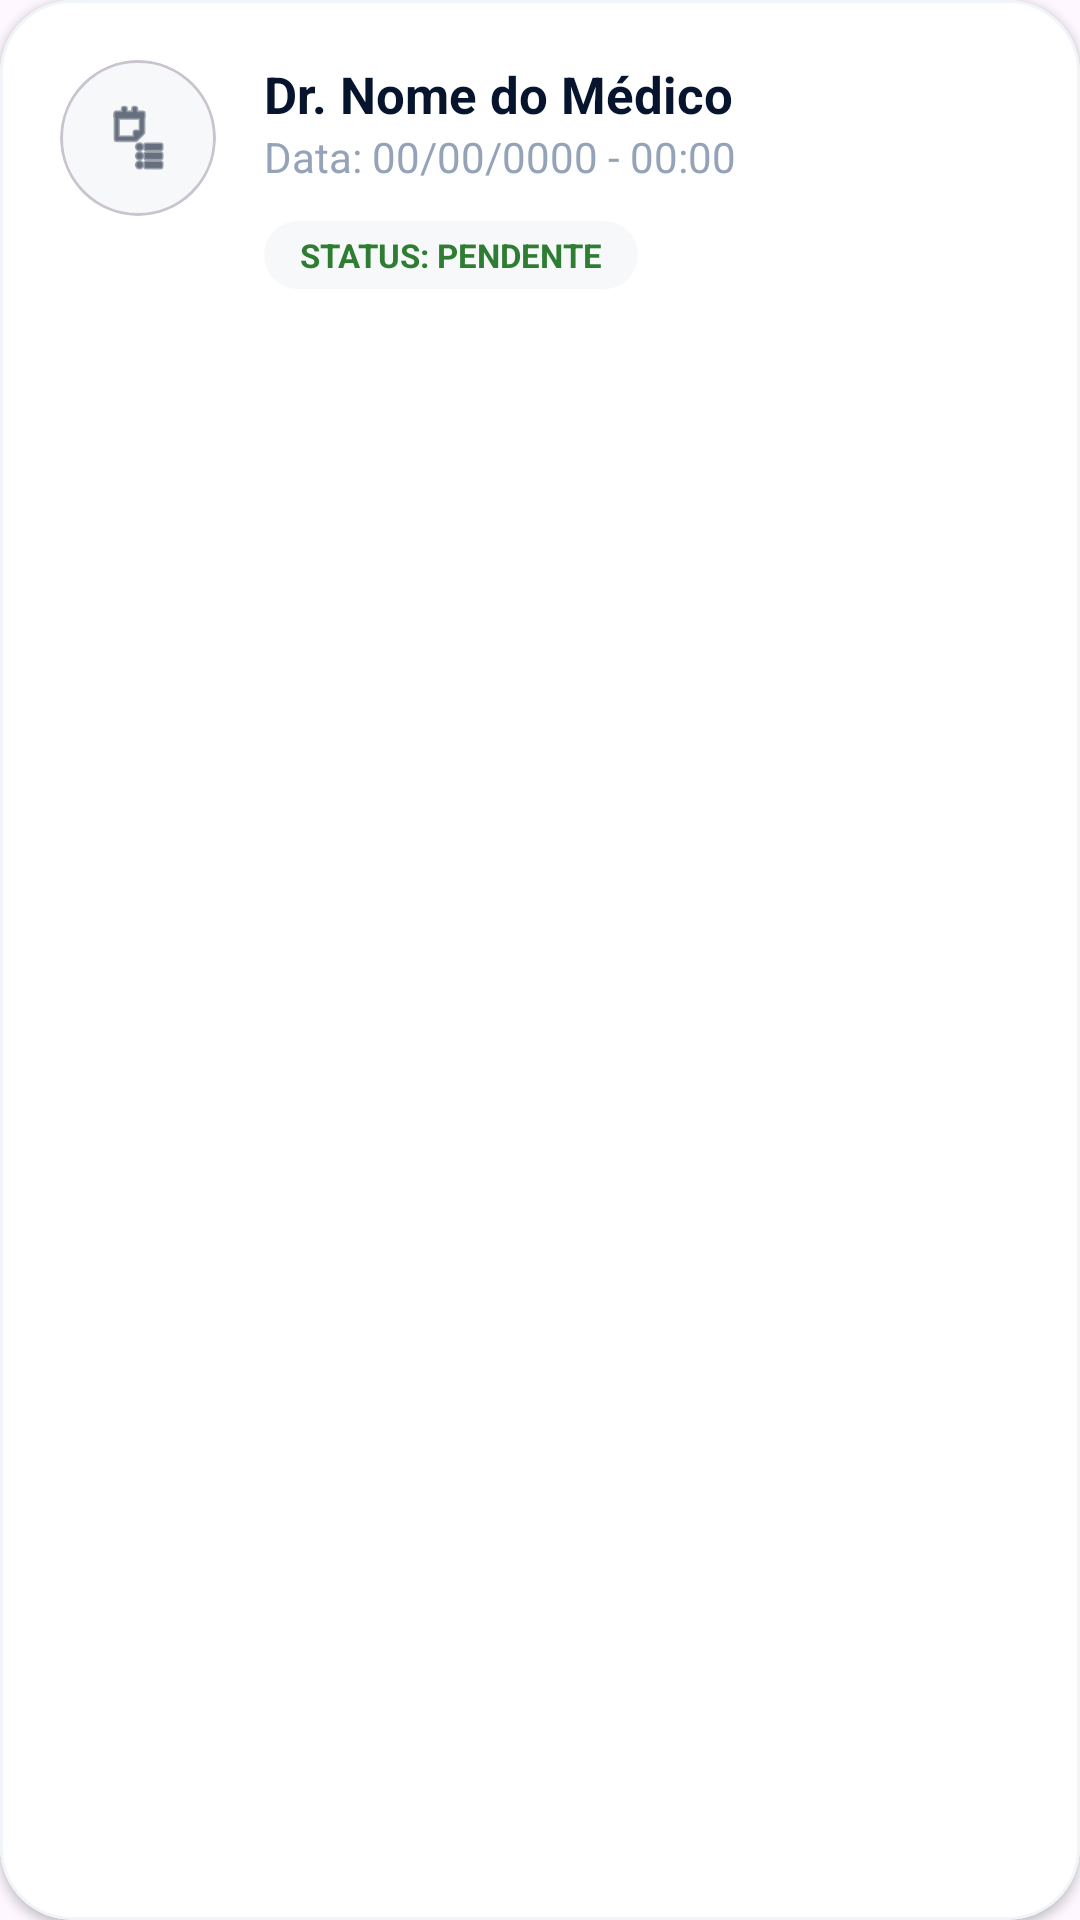

Icon bounding boxes for this 1080px×1920px phone screenshot, format (x1, y1, x2, y2):
agenda: (60, 60, 216, 216)
